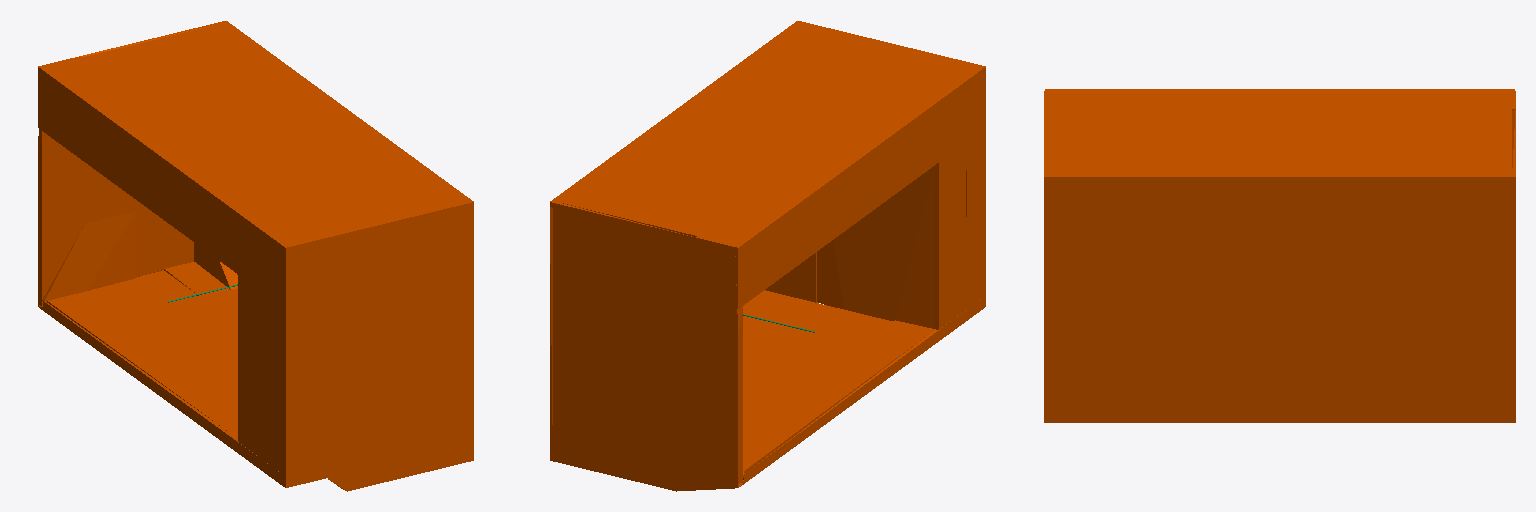
The robot description file, URDF, robot "partnet_87bae84777fe8b702bac1bcdfc2402d2":
<?xml version="1.0" ?>
<robot name="partnet_87bae84777fe8b702bac1bcdfc2402d2">
	<link name="base"/>
	<link name="link_0">
		<visual name="door_frame-27">
			<origin xyz="0.8040978092034378 -0.4571359999999993 -0.36598974550729024"/>
			<geometry>
				<mesh filename="textured_objs/original-4.obj"/>
			</geometry>
		</visual>
		<visual name="glass-28">
			<origin xyz="0.8040978092034378 -0.4571359999999993 -0.36598974550729024"/>
			<geometry>
				<mesh filename="textured_objs/original-2.obj"/>
			</geometry>
		</visual>
		<collision>
			<origin xyz="0.8040978092034378 -0.4571359999999993 -0.36598974550729024"/>
			<geometry>
				<mesh filename="textured_objs/original-4.obj"/>
			</geometry>
		</collision>
		<collision>
			<origin xyz="0.8040978092034378 -0.4571359999999993 -0.36598974550729024"/>
			<geometry>
				<mesh filename="textured_objs/original-2.obj"/>
			</geometry>
		</collision>
	</link>
	<link name="link_handle">
	    <visual>
			<geometry>
				<mesh filename="textured_objs/original-3.obj" scale="2.0 1.1 2.0"/>
			</geometry>
		</visual>
		<collision>
			<geometry>
				<mesh filename="textured_objs/original-3.obj" scale="2.0 1.1 2.0"/>
			</geometry>
		</collision>
	</link>
	<joint name="joint_handle" type="fixed">
	    <origin xyz="0.340978092034378 -0.4571359999999993 -0.73598974550729024"/>
		<child link="link_handle"/>
		<parent link="link_0"/>
	</joint>

	<joint name="joint_0" type="revolute">
		<origin xyz="-0.8040978092034378 0.4571359999999993 0.36598974550729024"/>
		<axis xyz="0 -1 0"/>
		<child link="link_0"/>
		<parent link="link_19"/>
		<limit lower="-0.0" upper="1.5707963267948966"/>
	</joint>
	<link name="link_1">
		<visual name="control_button-8">
			<origin xyz="-0.7917796010891323 0.14215177147656233 -0.3672469999999999"/>
			<geometry>
				<mesh filename="textured_objs/original-12.obj"/>
			</geometry>
		</visual>
		<collision>
			<origin xyz="-0.7917796010891323 0.14215177147656233 -0.3672469999999999"/>
			<geometry>
				<mesh filename="textured_objs/original-12.obj"/>
			</geometry>
		</collision>
	</link>
	<joint name="joint_1" type="prismatic">
		<origin xyz="0.7917796010891323 -0.14215177147656233 0.3672469999999999"/>
		<axis xyz="0 0 -1"/>
		<child link="link_1"/>
		<parent link="link_19"/>
		<limit lower="0" upper="0.025"/>
	</joint>
	<link name="link_2">
		<visual name="control_button-9">
			<origin xyz="-0.7917796010891323 0.14215177147656233 -0.3672469999999999"/>
			<geometry>
				<mesh filename="textured_objs/original-13.obj"/>
			</geometry>
		</visual>
		<collision>
			<origin xyz="-0.7917796010891323 0.14215177147656233 -0.3672469999999999"/>
			<geometry>
				<mesh filename="textured_objs/original-13.obj"/>
			</geometry>
		</collision>
	</link>
	<joint name="joint_2" type="prismatic">
		<origin xyz="0.7917796010891323 -0.14215177147656233 0.3672469999999999"/>
		<axis xyz="0 0 -1"/>
		<child link="link_2"/>
		<parent link="link_19"/>
		<limit lower="0" upper="0.025"/>
	</joint>
	<link name="link_3">
		<visual name="control_button-10">
			<origin xyz="-0.7917796010891323 0.14215177147656233 -0.3672469999999999"/>
			<geometry>
				<mesh filename="textured_objs/original-15.obj"/>
			</geometry>
		</visual>
		<collision>
			<origin xyz="-0.7917796010891323 0.14215177147656233 -0.3672469999999999"/>
			<geometry>
				<mesh filename="textured_objs/original-15.obj"/>
			</geometry>
		</collision>
	</link>
	<joint name="joint_3" type="prismatic">
		<origin xyz="0.7917796010891323 -0.14215177147656233 0.3672469999999999"/>
		<axis xyz="0 0 -1"/>
		<child link="link_3"/>
		<parent link="link_19"/>
		<limit lower="0" upper="0.025"/>
	</joint>
	<link name="link_4">
		<visual name="control_button-11">
			<origin xyz="-0.7917796010891323 0.14215177147656233 -0.3672469999999999"/>
			<geometry>
				<mesh filename="textured_objs/original-14.obj"/>
			</geometry>
		</visual>
		<collision>
			<origin xyz="-0.7917796010891323 0.14215177147656233 -0.3672469999999999"/>
			<geometry>
				<mesh filename="textured_objs/original-14.obj"/>
			</geometry>
		</collision>
	</link>
	<joint name="joint_4" type="prismatic">
		<origin xyz="0.7917796010891323 -0.14215177147656233 0.3672469999999999"/>
		<axis xyz="0 0 -1"/>
		<child link="link_4"/>
		<parent link="link_19"/>
		<limit lower="0" upper="0.025"/>
	</joint>
	<link name="link_5">
		<visual name="control_button-12">
			<origin xyz="-0.7917796010891323 0.14215177147656233 -0.3672469999999999"/>
			<geometry>
				<mesh filename="textured_objs/original-16.obj"/>
			</geometry>
		</visual>
		<collision>
			<origin xyz="-0.7917796010891323 0.14215177147656233 -0.3672469999999999"/>
			<geometry>
				<mesh filename="textured_objs/original-16.obj"/>
			</geometry>
		</collision>
	</link>
	<joint name="joint_5" type="prismatic">
		<origin xyz="0.7917796010891323 -0.14215177147656233 0.3672469999999999"/>
		<axis xyz="0 0 -1"/>
		<child link="link_5"/>
		<parent link="link_19"/>
		<limit lower="0" upper="0.025"/>
	</joint>
	<link name="link_6">
		<visual name="control_button-13">
			<origin xyz="-0.7917796010891323 0.14215177147656233 -0.3672469999999999"/>
			<geometry>
				<mesh filename="textured_objs/original-26.obj"/>
			</geometry>
		</visual>
		<collision>
			<origin xyz="-0.7917796010891323 0.14215177147656233 -0.3672469999999999"/>
			<geometry>
				<mesh filename="textured_objs/original-26.obj"/>
			</geometry>
		</collision>
	</link>
	<joint name="joint_6" type="prismatic">
		<origin xyz="0.7917796010891323 -0.14215177147656233 0.3672469999999999"/>
		<axis xyz="0 0 -1"/>
		<child link="link_6"/>
		<parent link="link_19"/>
		<limit lower="0" upper="0.025"/>
	</joint>
	<link name="link_7">
		<visual name="control_button-14">
			<origin xyz="-0.7917796010891323 0.14215177147656233 -0.3672469999999999"/>
			<geometry>
				<mesh filename="textured_objs/original-17.obj"/>
			</geometry>
		</visual>
		<collision>
			<origin xyz="-0.7917796010891323 0.14215177147656233 -0.3672469999999999"/>
			<geometry>
				<mesh filename="textured_objs/original-17.obj"/>
			</geometry>
		</collision>
	</link>
	<joint name="joint_7" type="prismatic">
		<origin xyz="0.7917796010891323 -0.14215177147656233 0.3672469999999999"/>
		<axis xyz="0 0 -1"/>
		<child link="link_7"/>
		<parent link="link_19"/>
		<limit lower="0" upper="0.025"/>
	</joint>
	<link name="link_8">
		<visual name="control_button-15">
			<origin xyz="-0.7917796010891323 0.14215177147656233 -0.3672469999999999"/>
			<geometry>
				<mesh filename="textured_objs/original-19.obj"/>
			</geometry>
		</visual>
		<collision>
			<origin xyz="-0.7917796010891323 0.14215177147656233 -0.3672469999999999"/>
			<geometry>
				<mesh filename="textured_objs/original-19.obj"/>
			</geometry>
		</collision>
	</link>
	<joint name="joint_8" type="prismatic">
		<origin xyz="0.7917796010891323 -0.14215177147656233 0.3672469999999999"/>
		<axis xyz="0 0 -1"/>
		<child link="link_8"/>
		<parent link="link_19"/>
		<limit lower="0" upper="0.025"/>
	</joint>
	<link name="link_9">
		<visual name="control_button-16">
			<origin xyz="-0.7917796010891323 0.14215177147656233 -0.3672469999999999"/>
			<geometry>
				<mesh filename="textured_objs/original-20.obj"/>
			</geometry>
		</visual>
		<collision>
			<origin xyz="-0.7917796010891323 0.14215177147656233 -0.3672469999999999"/>
			<geometry>
				<mesh filename="textured_objs/original-20.obj"/>
			</geometry>
		</collision>
	</link>
	<joint name="joint_9" type="prismatic">
		<origin xyz="0.7917796010891323 -0.14215177147656233 0.3672469999999999"/>
		<axis xyz="0 0 -1"/>
		<child link="link_9"/>
		<parent link="link_19"/>
		<limit lower="0" upper="0.025"/>
	</joint>
	<link name="link_10">
		<visual name="control_button-17">
			<origin xyz="-0.7917796010891323 0.14215177147656233 -0.3672469999999999"/>
			<geometry>
				<mesh filename="textured_objs/original-23.obj"/>
			</geometry>
		</visual>
		<collision>
			<origin xyz="-0.7917796010891323 0.14215177147656233 -0.3672469999999999"/>
			<geometry>
				<mesh filename="textured_objs/original-23.obj"/>
			</geometry>
		</collision>
	</link>
	<joint name="joint_10" type="prismatic">
		<origin xyz="0.7917796010891323 -0.14215177147656233 0.3672469999999999"/>
		<axis xyz="0 0 -1"/>
		<child link="link_10"/>
		<parent link="link_19"/>
		<limit lower="0" upper="0.025"/>
	</joint>
	<link name="link_11">
		<visual name="control_button-18">
			<origin xyz="-0.7917796010891323 0.14215177147656233 -0.3672469999999999"/>
			<geometry>
				<mesh filename="textured_objs/original-27.obj"/>
			</geometry>
		</visual>
		<collision>
			<origin xyz="-0.7917796010891323 0.14215177147656233 -0.3672469999999999"/>
			<geometry>
				<mesh filename="textured_objs/original-27.obj"/>
			</geometry>
		</collision>
	</link>
	<joint name="joint_11" type="prismatic">
		<origin xyz="0.7917796010891323 -0.14215177147656233 0.3672469999999999"/>
		<axis xyz="0 0 -1"/>
		<child link="link_11"/>
		<parent link="link_19"/>
		<limit lower="0" upper="0.025"/>
	</joint>
	<link name="link_12">
		<visual name="control_button-19">
			<origin xyz="-0.7917796010891323 0.14215177147656233 -0.3672469999999999"/>
			<geometry>
				<mesh filename="textured_objs/original-21.obj"/>
			</geometry>
		</visual>
		<collision>
			<origin xyz="-0.7917796010891323 0.14215177147656233 -0.3672469999999999"/>
			<geometry>
				<mesh filename="textured_objs/original-21.obj"/>
			</geometry>
		</collision>
	</link>
	<joint name="joint_12" type="prismatic">
		<origin xyz="0.7917796010891323 -0.14215177147656233 0.3672469999999999"/>
		<axis xyz="0 0 -1"/>
		<child link="link_12"/>
		<parent link="link_19"/>
		<limit lower="0" upper="0.025"/>
	</joint>
	<link name="link_13">
		<visual name="control_button-20">
			<origin xyz="-0.7917796010891323 0.14215177147656233 -0.3672469999999999"/>
			<geometry>
				<mesh filename="textured_objs/original-22.obj"/>
			</geometry>
		</visual>
		<collision>
			<origin xyz="-0.7917796010891323 0.14215177147656233 -0.3672469999999999"/>
			<geometry>
				<mesh filename="textured_objs/original-22.obj"/>
			</geometry>
		</collision>
	</link>
	<joint name="joint_13" type="prismatic">
		<origin xyz="0.7917796010891323 -0.14215177147656233 0.3672469999999999"/>
		<axis xyz="0 0 -1"/>
		<child link="link_13"/>
		<parent link="link_19"/>
		<limit lower="0" upper="0.025"/>
	</joint>
	<link name="link_14">
		<visual name="control_button-21">
			<origin xyz="-0.7917796010891323 0.14215177147656233 -0.3672469999999999"/>
			<geometry>
				<mesh filename="textured_objs/original-18.obj"/>
			</geometry>
		</visual>
		<collision>
			<origin xyz="-0.7917796010891323 0.14215177147656233 -0.3672469999999999"/>
			<geometry>
				<mesh filename="textured_objs/original-18.obj"/>
			</geometry>
		</collision>
	</link>
	<joint name="joint_14" type="prismatic">
		<origin xyz="0.7917796010891323 -0.14215177147656233 0.3672469999999999"/>
		<axis xyz="0 0 -1"/>
		<child link="link_14"/>
		<parent link="link_19"/>
		<limit lower="0" upper="0.025"/>
	</joint>
	<link name="link_15">
		<visual name="control_button-22">
			<origin xyz="-0.7917796010891323 0.14215177147656233 -0.3672469999999999"/>
			<geometry>
				<mesh filename="textured_objs/original-25.obj"/>
			</geometry>
		</visual>
		<collision>
			<origin xyz="-0.7917796010891323 0.14215177147656233 -0.3672469999999999"/>
			<geometry>
				<mesh filename="textured_objs/original-25.obj"/>
			</geometry>
		</collision>
	</link>
	<joint name="joint_15" type="prismatic">
		<origin xyz="0.7917796010891323 -0.14215177147656233 0.3672469999999999"/>
		<axis xyz="0 0 -1"/>
		<child link="link_15"/>
		<parent link="link_19"/>
		<limit lower="0" upper="0.025"/>
	</joint>
	<link name="link_16">
		<visual name="control_button-23">
			<origin xyz="-0.7917796010891323 0.14215177147656233 -0.3672469999999999"/>
			<geometry>
				<mesh filename="textured_objs/original-11.obj"/>
			</geometry>
		</visual>
		<collision>
			<origin xyz="-0.7917796010891323 0.14215177147656233 -0.3672469999999999"/>
			<geometry>
				<mesh filename="textured_objs/original-11.obj"/>
			</geometry>
		</collision>
	</link>
	<joint name="joint_16" type="prismatic">
		<origin xyz="0.7917796010891323 -0.14215177147656233 0.3672469999999999"/>
		<axis xyz="0 0 -1"/>
		<child link="link_16"/>
		<parent link="link_19"/>
		<limit lower="0" upper="0.025"/>
	</joint>
	<link name="link_17">
		<visual name="control_button-24">
			<origin xyz="-0.7917796010891323 0.14215177147656233 -0.3672469999999999"/>
			<geometry>
				<mesh filename="textured_objs/original-10.obj"/>
			</geometry>
		</visual>
		<collision>
			<origin xyz="-0.7917796010891323 0.14215177147656233 -0.3672469999999999"/>
			<geometry>
				<mesh filename="textured_objs/original-10.obj"/>
			</geometry>
		</collision>
	</link>
	<joint name="joint_17" type="prismatic">
		<origin xyz="0.7917796010891323 -0.14215177147656233 0.3672469999999999"/>
		<axis xyz="0 0 -1"/>
		<child link="link_17"/>
		<parent link="link_19"/>
		<limit lower="0" upper="0.025"/>
	</joint>
	<link name="link_18">
		<visual name="control_button-25">
			<origin xyz="-0.7917796010891323 0.14215177147656233 -0.3672469999999999"/>
			<geometry>
				<mesh filename="textured_objs/original-24.obj"/>
			</geometry>
		</visual>
		<collision>
			<origin xyz="-0.7917796010891323 0.14215177147656233 -0.3672469999999999"/>
			<geometry>
				<mesh filename="textured_objs/original-24.obj"/>
			</geometry>
		</collision>
	</link>
	<joint name="joint_18" type="prismatic">
		<origin xyz="0.7917796010891323 -0.14215177147656233 0.3672469999999999"/>
		<axis xyz="0 0 -1"/>
		<child link="link_18"/>
		<parent link="link_19"/>
		<limit lower="0" upper="0.025"/>
	</joint>
	<link name="link_19">
		<visual name="surface-4">
			<origin xyz="0 0 0"/>
			<geometry>
				<mesh filename="textured_objs/new-0.obj"/>
			</geometry>
		</visual>
		<visual name="frame-5">
			<origin xyz="0 0 0"/>
			<geometry>
				<mesh filename="textured_objs/new-3.obj"/>
			</geometry>
		</visual>
		<visual name="frame-5">
			<origin xyz="0 0 0"/>
			<geometry>
				<mesh filename="textured_objs/original-6.obj"/>
			</geometry>
		</visual>
		<visual name="frame-5">
			<origin xyz="0 0 0"/>
			<geometry>
				<mesh filename="textured_objs/new-1_v.obj"/>
			</geometry>
		</visual>
		<visual name="display_panel-26">
			<origin xyz="0 0 0"/>
			<geometry>
				<mesh filename="textured_objs/new-2.obj"/>
			</geometry>
		</visual>
		<collision>
			<origin xyz="0 0 0"/>
			<geometry>
				<mesh filename="textured_objs/new-0.obj"/>
			</geometry>
		</collision>
		<collision>
			<origin xyz="0 0 0"/>
			<geometry>
				<mesh filename="textured_objs/new-3.obj"/>
			</geometry>
		</collision>
		<collision>
			<origin xyz="0 0 0"/>
			<geometry>
				<mesh filename="textured_objs/original-6.obj"/>
			</geometry>
		</collision>
		<collision>
			<origin xyz="0 0 0"/>
			<geometry>
				<mesh filename="textured_objs/new-1_v.obj"/>
			</geometry>
		</collision>
		<collision>
			<origin xyz="0 0 0"/>
			<geometry>
				<mesh filename="textured_objs/new-2.obj"/>
			</geometry>
		</collision>
	</link>
	<joint name="joint_19" type="fixed">
		<origin rpy="1.570796326794897 0 -1.570796326794897" xyz="0 0 0"/>
		<child link="link_19"/>
		<parent link="base"/>
	</joint>
</robot>

--- Facts derived from the render (not from the file) ---
The picture shows the robot from 3 angles, left to right: view 1: azimuth 30°, elevation 25°; view 2: azimuth 150°, elevation 25°; view 3: azimuth 270°, elevation 25°; orthographic projection.
Robot: partnet_87bae84777fe8b702bac1bcdfc2402d2 — 22 links, 21 joints (1 revolute, 18 prismatic, 2 fixed); root link base; default pose: every joint at zero.
Visible links, largest first — view 1: link_19; view 2: link_19; view 3: link_19.
Boxes of the visible links, left/top/right/bottom form: link_19: left=38, top=21, right=473, bottom=491; link_19: left=550, top=21, right=985, bottom=491; link_19: left=1044, top=89, right=1515, bottom=422.
Size in the robot's own frame: 0.7176 by 1.63 by 0.9408 metres.
Meshes: 26 distinct files referenced, 2 mesh visuals loaded (2 OBJ); not drawn: 24 (reference not matched to a file when rendering).